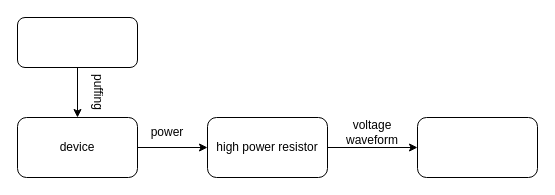
Some shapes in this 555 by 195 pixel diagram are drawn without their labels. The box of each missing label's shape, as (x1, y1, x2, y2) in pixels:
Oscilloscope: (416, 116, 538, 178)
Puff machine: (16, 16, 138, 68)
